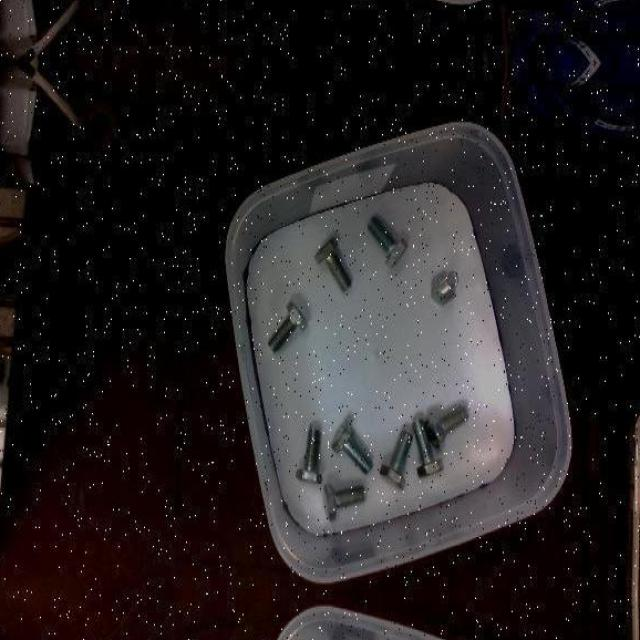screw: (331, 421, 373, 474), (368, 216, 408, 269), (267, 300, 307, 352), (315, 236, 352, 292), (379, 429, 413, 488), (424, 404, 468, 449), (412, 416, 444, 477), (322, 483, 367, 521), (295, 427, 321, 482), (431, 270, 458, 306)
